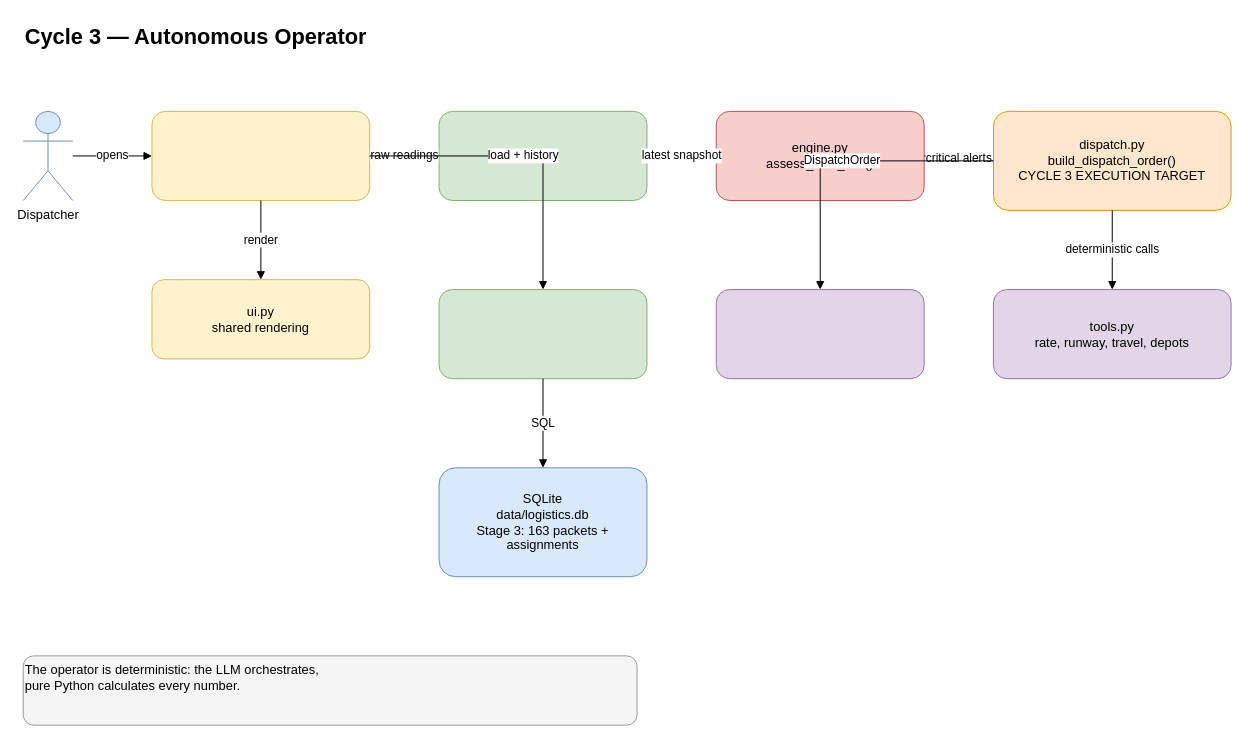
Some shapes in this 1248 by 743 pixel diagram are drawn without their labels. Here are the shapes that lost their labels. From the top down, the centre of each, then its label:
At [260,155]: "app_cycle3.py snapshot + alerts + triage".
At [542,155]: "prep.py build_fleet_snapshot()".
At [542,334]: "FleetRepository repository.py".
At [819,334]: "models.py contracts + TruckAssignment + DispatchOrder".
